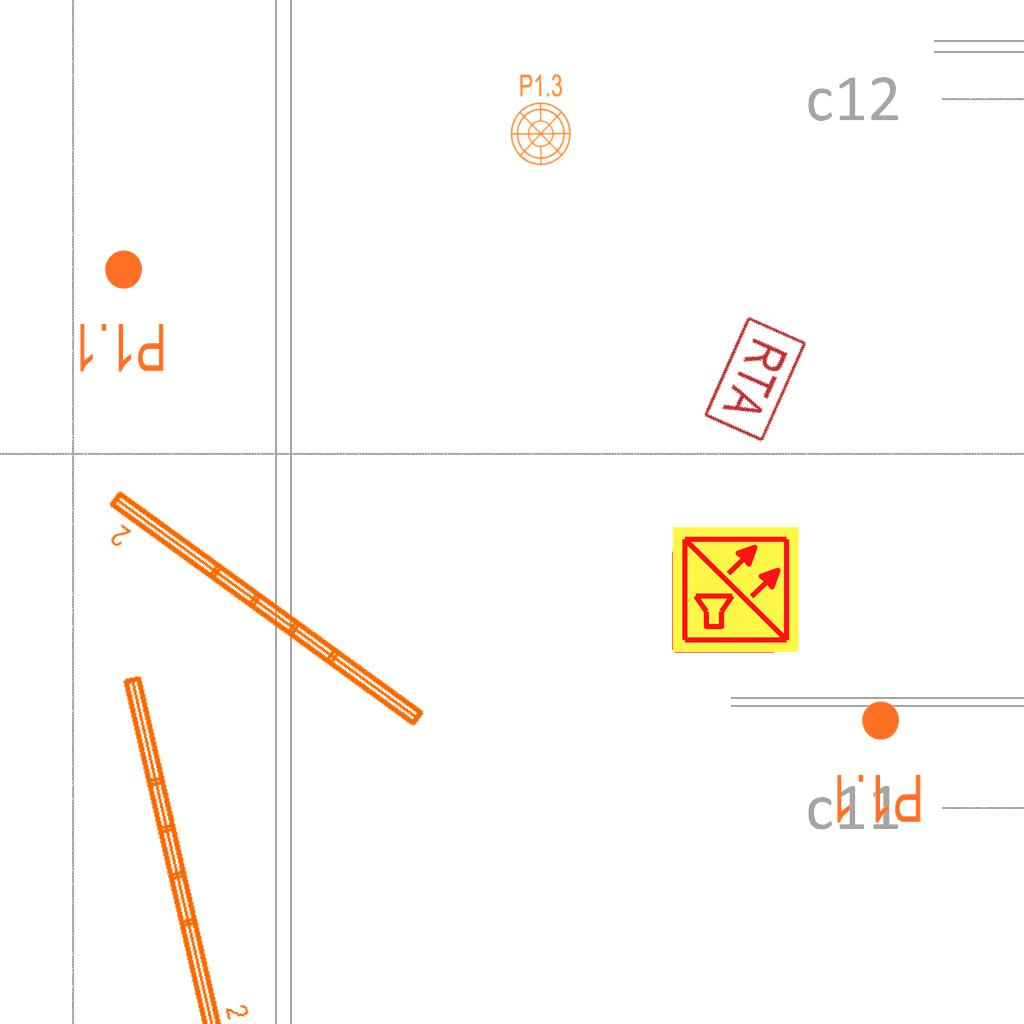Ambulanz_Pendelleuchte_LED: (86, 482, 433, 756), (115, 663, 258, 1024)
Aufbaurundleuchte_LED_Treppenhaus: (509, 65, 578, 167)
Downlight_LED_Einbauleuchten_Flur_2: (74, 247, 167, 375), (831, 698, 924, 826)
OKW_Multisensormelder_(Kombination_optischer_Rauch-Kahlenmonoxid_Waerme-Melder): (670, 524, 802, 656)
Ruf-und_Abstelltaster: (700, 311, 811, 445)
